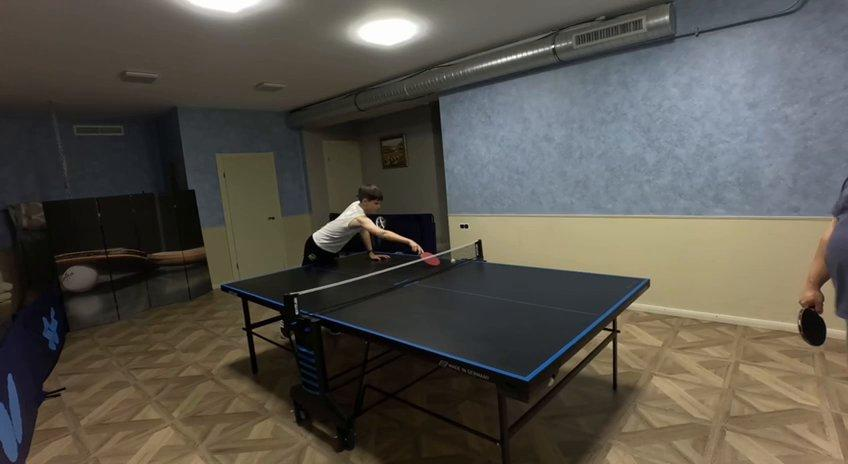Ball: (450, 254, 460, 264)
Net: (282, 240, 485, 317)
Player1: (303, 185, 423, 265)
Player2: (799, 177, 847, 346)
Table: (223, 249, 649, 381)
